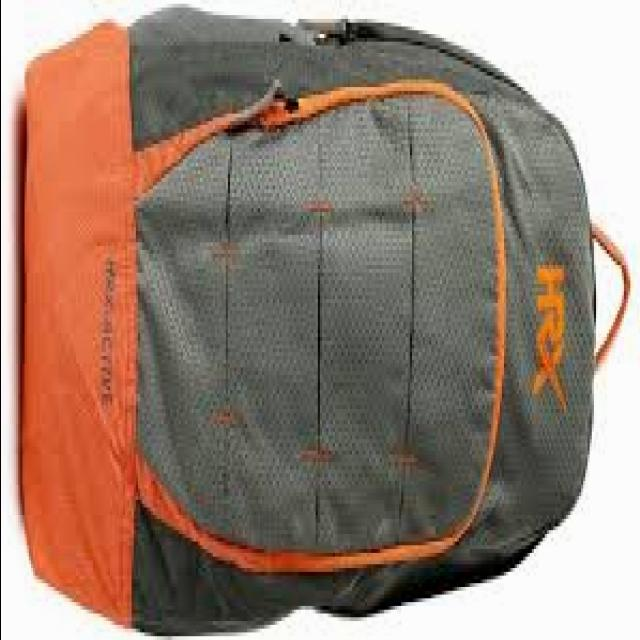backpack: (23, 5, 633, 637)
